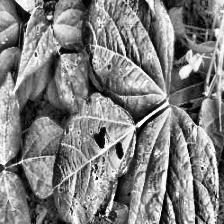ALS: (124, 107, 218, 224), (58, 85, 137, 223), (86, 0, 169, 110)
